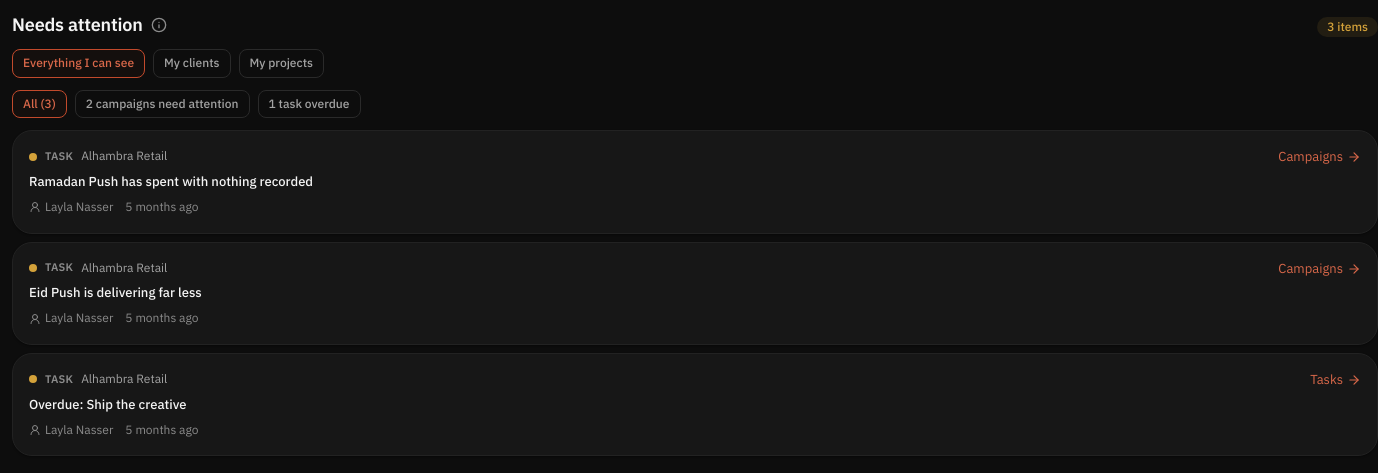
Test: AttentionPanel › groups by area from the one response, and narrows the list to the area chosen
Click the button "2 campaigns need attention" at (162, 104), box top-left (75, 90), bottom-right (250, 118)
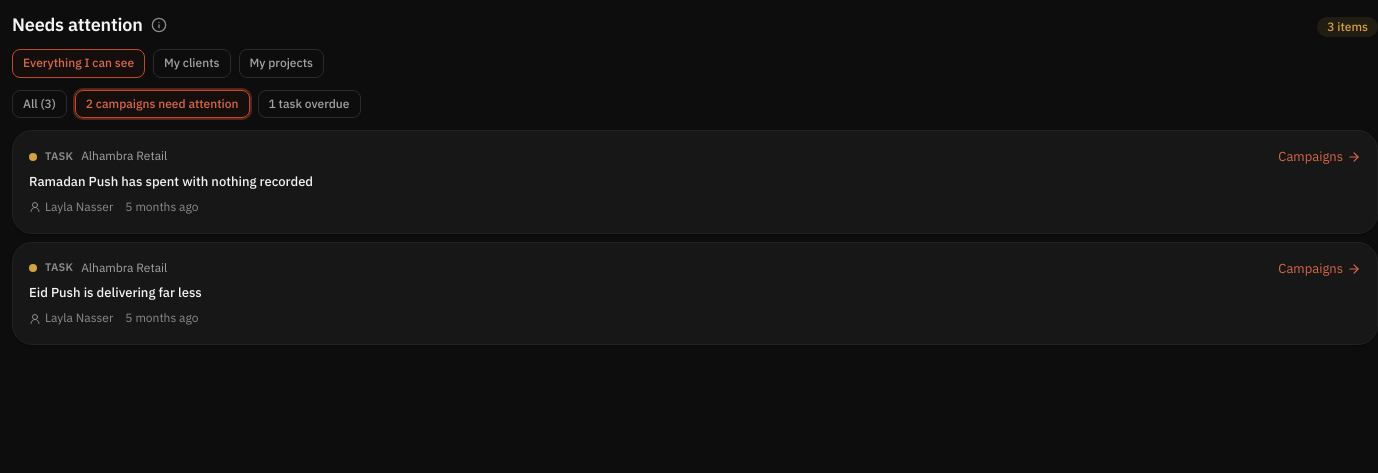
Expected: the text "Ramadan Push has spent with nothing recorded" is shown, top-left (29, 172), bottom-right (313, 191)
Now the text "Overdue: Ship the creative" is gone
